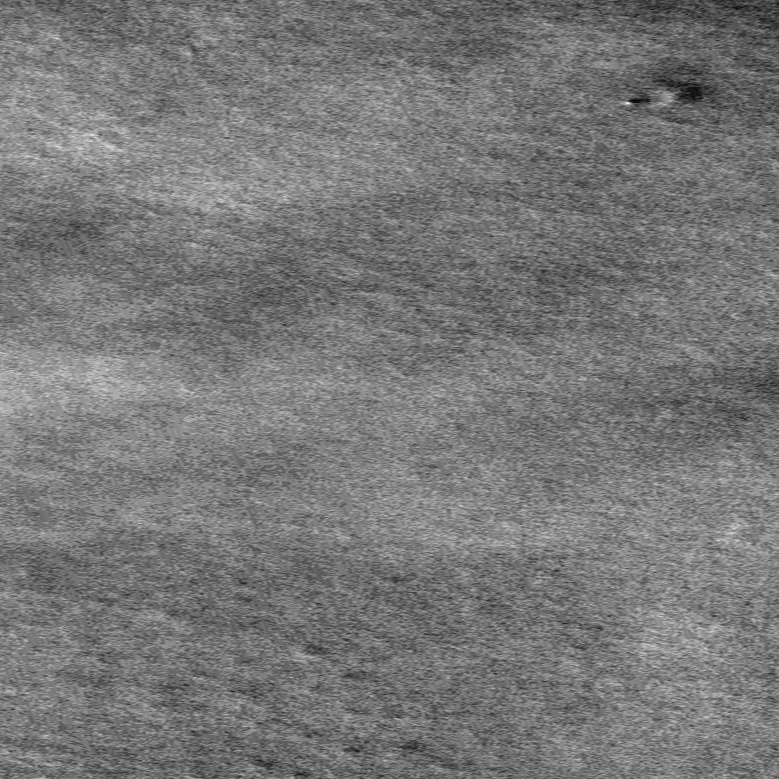dust_devil: (623, 97, 650, 106)
